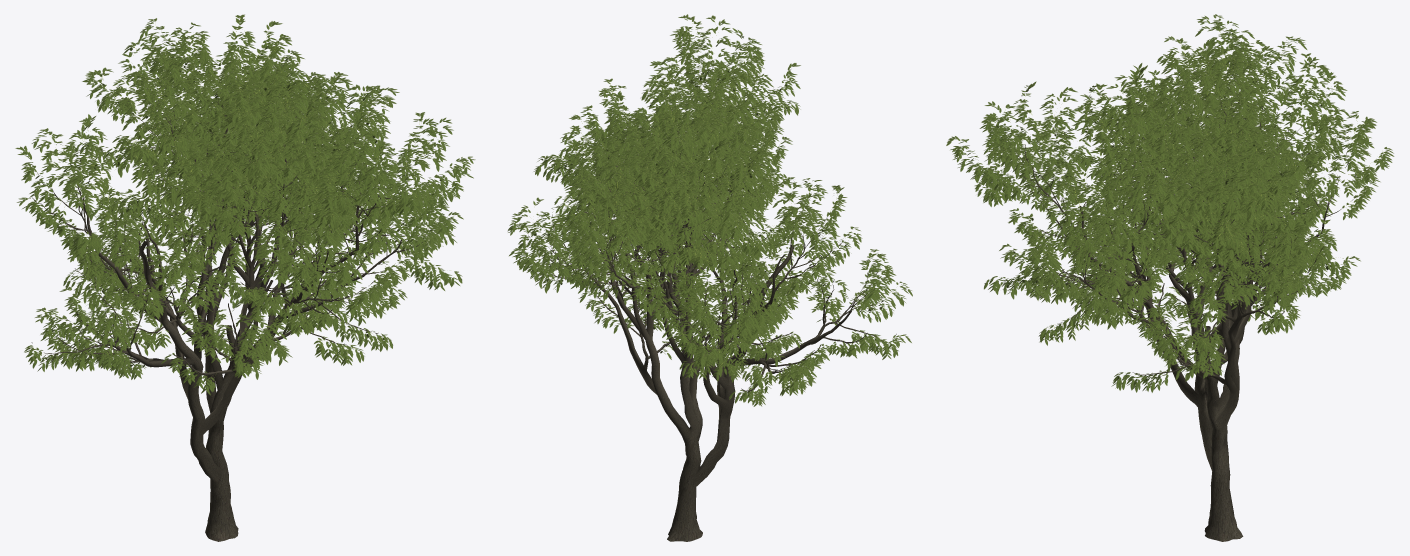
Rendered from mahogany_tree.glb.
The picture shows the model from 3 angles, left to right: view 1: azimuth 30°, elevation 25°; view 2: azimuth 150°, elevation 25°; view 3: azimuth 270°, elevation 25°; orthographic projection. The views are drawn at different scales.
Visible parts, largest first — view 1: mahogany_leaf_001_albedo_002_Mat_Material #25_0, mahogany_bark_albedo_001_Mat_Material #26_0, stem_001_Mat_Material #27_0; view 2: mahogany_leaf_001_albedo_002_Mat_Material #25_0, mahogany_bark_albedo_001_Mat_Material #26_0, stem_001_Mat_Material #27_0; view 3: mahogany_leaf_001_albedo_002_Mat_Material #25_0, mahogany_bark_albedo_001_Mat_Material #26_0, stem_001_Mat_Material #27_0.
Boxes of the visible parts, box(x1,y1,x2,y2) form: mahogany_leaf_001_albedo_002_Mat_Material #25_0: box(15, 14, 475, 395); mahogany_bark_albedo_001_Mat_Material #26_0: box(31, 82, 422, 541); stem_001_Mat_Material #27_0: box(25, 17, 449, 381); mahogany_leaf_001_albedo_002_Mat_Material #25_0: box(507, 14, 912, 406); mahogany_bark_albedo_001_Mat_Material #26_0: box(522, 63, 896, 541); stem_001_Mat_Material #27_0: box(517, 23, 903, 386); mahogany_leaf_001_albedo_002_Mat_Material #25_0: box(946, 14, 1394, 392); mahogany_bark_albedo_001_Mat_Material #26_0: box(1018, 79, 1356, 541); stem_001_Mat_Material #27_0: box(966, 22, 1384, 378).
Size of the model in its own units: 0.6682 by 0.8344 by 0.6783.
3 materials, 3 textured.
